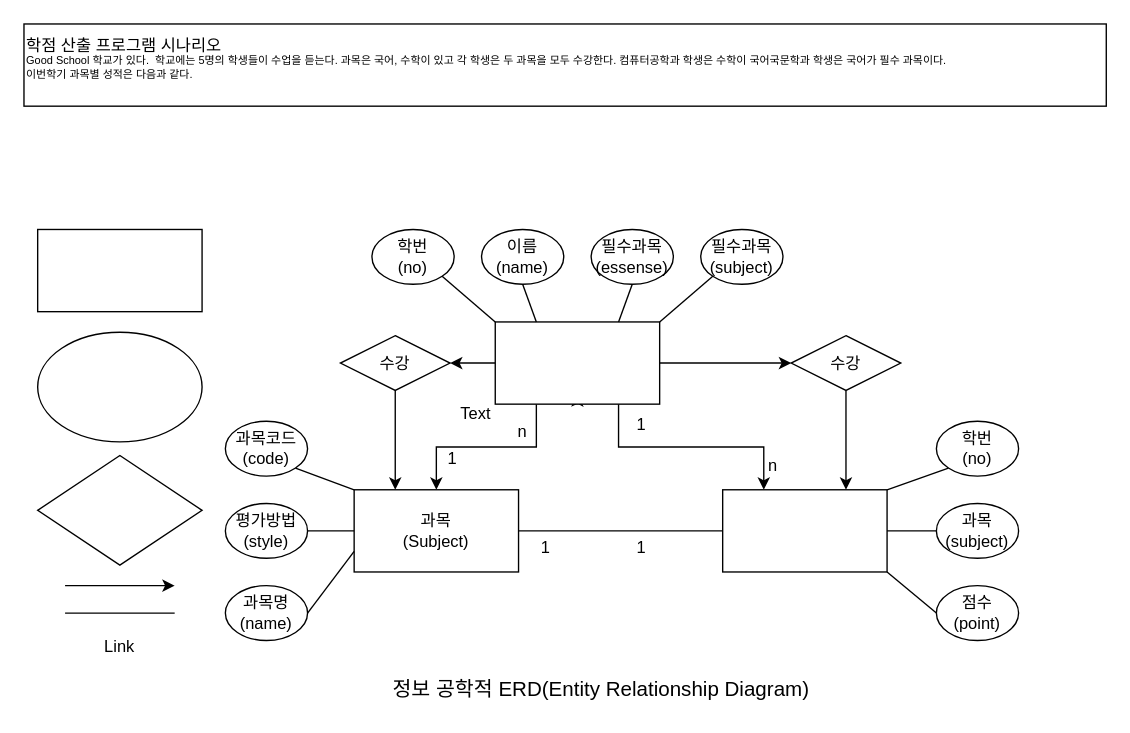
This 1130x733 diagram has some shape labels left out. The shapes that lost their labels are listed below. From the top down, each one's centre as x and y in pixels, then its label:
At [119,270]: "Entity".
At [577,362]: "학생 (Student)".
At [119,386]: "Attribute".
At [119,509]: "Relation".
At [804,530]: "점수 (Score)".
